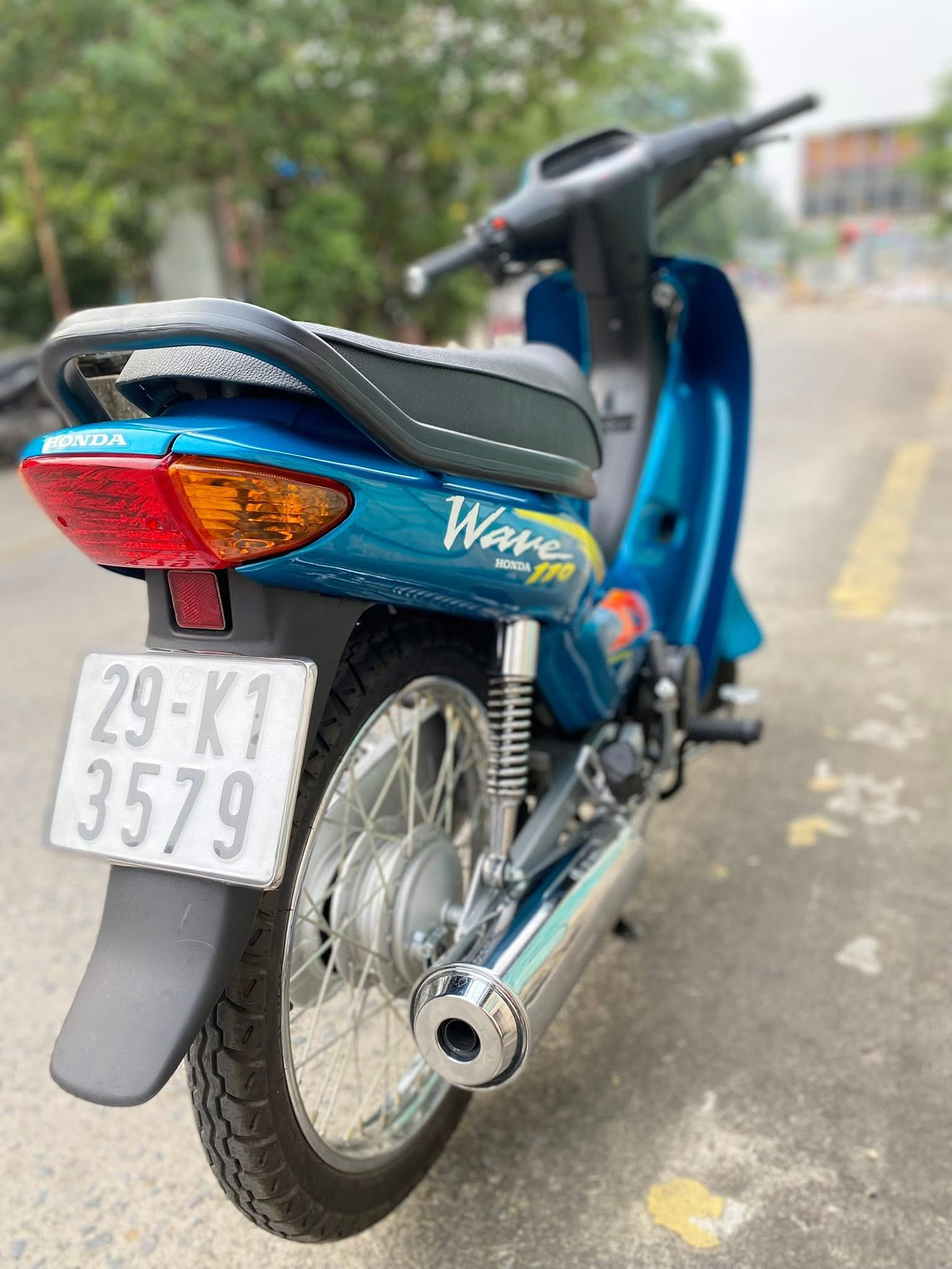bien_so: (31, 636, 323, 903)
